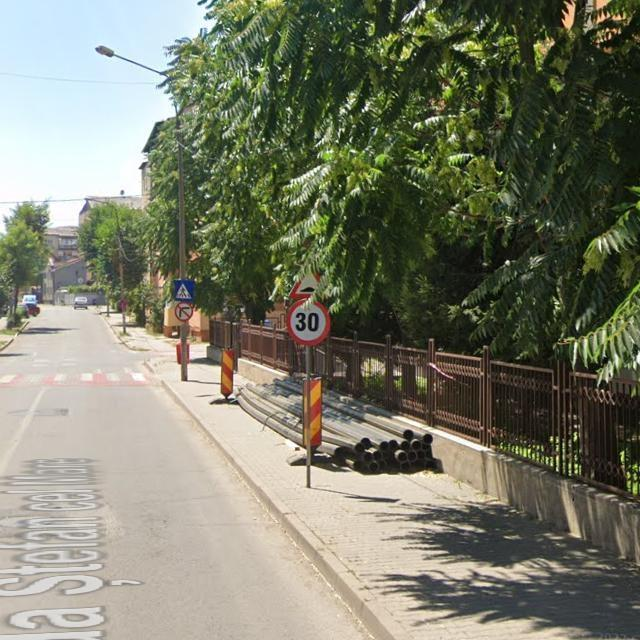forb_speed_over_30: (288, 298, 331, 345)
info_crosswalk: (173, 280, 194, 301)
